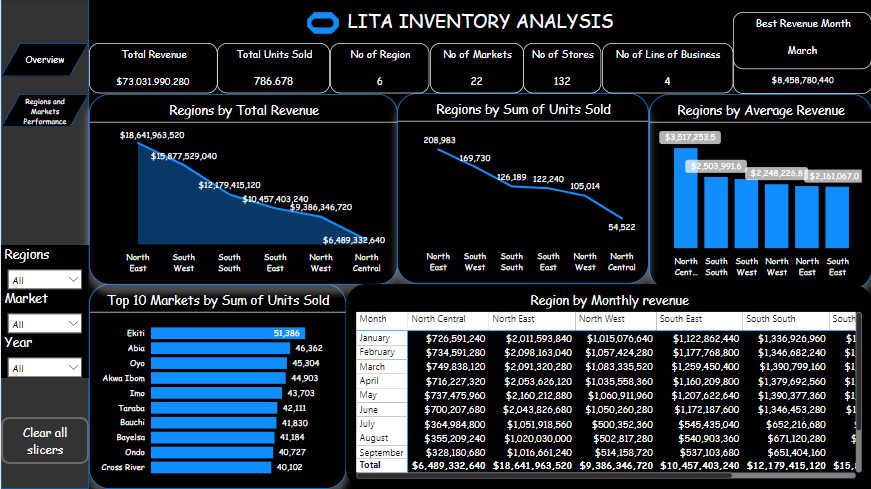

Layout of this report page (visuals, bound fields, positions):
{"tool":"powerbi","page":{"name":"Page 1","canvas":[1280,720],"ordinal":0},"visuals":[{"type":"clusteredBarChart","title":"Top 10 Markets by Sum of Units Sold","fields":{"Category":["Sheet1 (2).Market"],"Y":["Sum(Sheet1 (2).Units Sold )"]},"box":[128.8,418.8,377.5,301.2],"z":0},{"type":"shape","box":[0,0,129,720],"z":1000},{"type":"shape","box":[129.3,0,1150.5,51.4],"z":2000},{"type":"areaChart","title":"Regions by Total Revenue","fields":{"Category":["Sheet1 (2).Region"],"Y":["Sum(Sheet1 (2).Revenue )"]},"box":[129,139,454,280],"z":3000},{"type":"lineClusteredColumnComboChart","title":"Regions by Average Revenue","fields":{"Category":["Sheet1 (2).Region"],"Y":["Avg(Sheet1 (2).Revenue )"]},"box":[952.2,139.6,327.7,286.5],"z":4000},{"type":"lineChart","title":"Regions by Sum of Units Sold","fields":{"Category":["Sheet1 (2).Region"],"Y":["Sum(Sheet1 (2).Units Sold )"]},"box":[583,139,370,280],"z":5000},{"type":"pivotTable","title":"Region by Monthly revenue","fields":{"Rows":["Sheet1 (2).Trade Date.Variation.Date Hierarchy.Month"],"Columns":["Sheet1 (2).Region"],"Values":["Sum(Sheet1 (2).Revenue )"]},"box":[506.9,418.8,772.9,301.2],"z":6000},{"type":"cardVisual","title":"No of Region","fields":{"Data":["Count(Sheet1 (2).Region)"]},"box":[483.4,51.4,146.9,86.7],"z":7000},{"type":"slicer","title":"Year","fields":{"Values":["Sheet1 (2).Trade Date.Variation.Date Hierarchy.Year"]},"box":[0,337,129,66],"z":8000},{"type":"slicer","title":"Market","fields":{"Values":["Sheet1 (2).Market"]},"box":[0,468,129,65],"z":9000},{"type":"slicer","title":"Regions","fields":{"Values":["Sheet1 (2).Region"]},"box":[0,403,129,65],"z":10000},{"type":"cardVisual","title":"No of Stores","fields":{"Data":["Count(Sheet1 (2).Store)"]},"box":[767,51.4,116.1,86.7],"z":11000},{"type":"cardVisual","title":"No of Line of Business","fields":{"Data":["Count(Sheet1 (2).Line Of Business)"]},"box":[883.1,51.4,192.5,86.7],"z":12000},{"type":"cardVisual","title":"No of Markets","fields":{"Data":["Count(Sheet1 (2).Market)"]},"box":[630.4,51.4,136.7,86.7],"z":13000},{"type":"cardVisual","title":"Total Units Sold","fields":{"Data":["select","Sum(Sheet1 (2).Units Sold )"]},"box":[317.4,51.4,166,86.7],"z":14000},{"type":"shape","box":[449.6,10.3,47,32.3],"z":15000},{"type":"shape","box":[461.4,19.1,23.5,14.7],"z":16000},{"type":"shape","box":[0,139.6,129.3,48.5],"z":17000},{"type":"shape","box":[0,65,129,49],"z":18000},{"type":"actionButton","box":[0,614.2,129.3,69.1],"z":19000},{"type":"cardVisual","title":"Total Units Sold","fields":{"Data":["Sum(Sheet1 (2).Revenue )"]},"box":[1075,78.8,205,60],"z":20000},{"type":"cardVisual","title":"Best Revenue Month","fields":{"Data":["Min(Sheet1 (2).Monthly Trade Date)"]},"box":[1075.6,19.1,204.2,83.8],"z":21000},{"type":"kpi","title":"Total Revenue by Year","fields":{"Indicator":["Sum(Sheet1 (2).Revenue )"],"Goal":["Sheet1 (2).Target"],"TrendLine":["Sheet1 (2).Trade Date.Variation.Date Hierarchy.Year"]},"box":[129.3,51.4,188.1,88.2],"z":22000}]}

Visuals, with their boxes on the page's 1280x720 design canvas (x1, y1, x2, y2). These are canvas units, not pixel positions in the 871x489 screenshot, which may show the page scaled, cropped or inside an application window:
"Top 10 Markets by Sum of Units Sold" clusteredBarChart: (129,419,506,720)
shape: (0,0,129,720)
shape: (129,0,1280,51)
"Regions by Total Revenue" areaChart: (129,139,583,419)
"Regions by Average Revenue" lineClusteredColumnComboChart: (952,140,1280,426)
"Regions by Sum of Units Sold" lineChart: (583,139,953,419)
"Region by Monthly revenue" pivotTable: (507,419,1280,720)
"No of Region" cardVisual: (483,51,630,138)
"Year" slicer: (0,337,129,403)
"Market" slicer: (0,468,129,533)
"Regions" slicer: (0,403,129,468)
"No of Stores" cardVisual: (767,51,883,138)
"No of Line of Business" cardVisual: (883,51,1076,138)
"No of Markets" cardVisual: (630,51,767,138)
"Total Units Sold" cardVisual: (317,51,483,138)
shape: (450,10,497,43)
shape: (461,19,485,34)
shape: (0,140,129,188)
shape: (0,65,129,114)
actionButton: (0,614,129,683)
"Total Units Sold" cardVisual: (1075,79,1280,139)
"Best Revenue Month" cardVisual: (1076,19,1280,103)
"Total Revenue by Year" kpi: (129,51,317,140)
